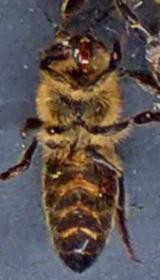varroa_mite: (98, 172, 116, 197)
